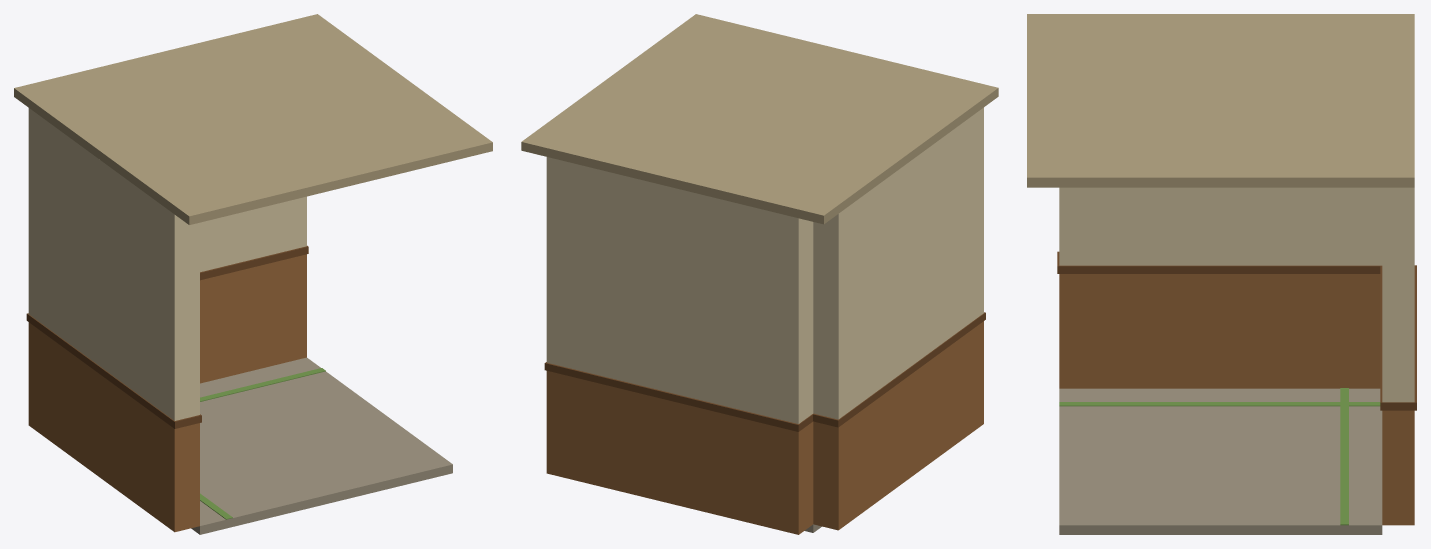
File: room_shared_hall_corner.glb
3 renders of one model, left to right at view 1: azimuth 30°, elevation 25°; view 2: azimuth 150°, elevation 25°; view 3: azimuth 270°, elevation 25°, orthographic. The views are drawn at different scales.
Visible parts, largest first — view 1: room_shared_hall_corner; view 2: room_shared_hall_corner; view 3: room_shared_hall_corner.
Boxes of the visible parts, x1,y1,x2,y2 form: room_shared_hall_corner: [14, 14, 492, 534]; room_shared_hall_corner: [521, 14, 998, 534]; room_shared_hall_corner: [1027, 14, 1416, 534].
Bounding box in the file's own units: 3.61 × 3.8 × 3.62.
1 material, 1 textured.
